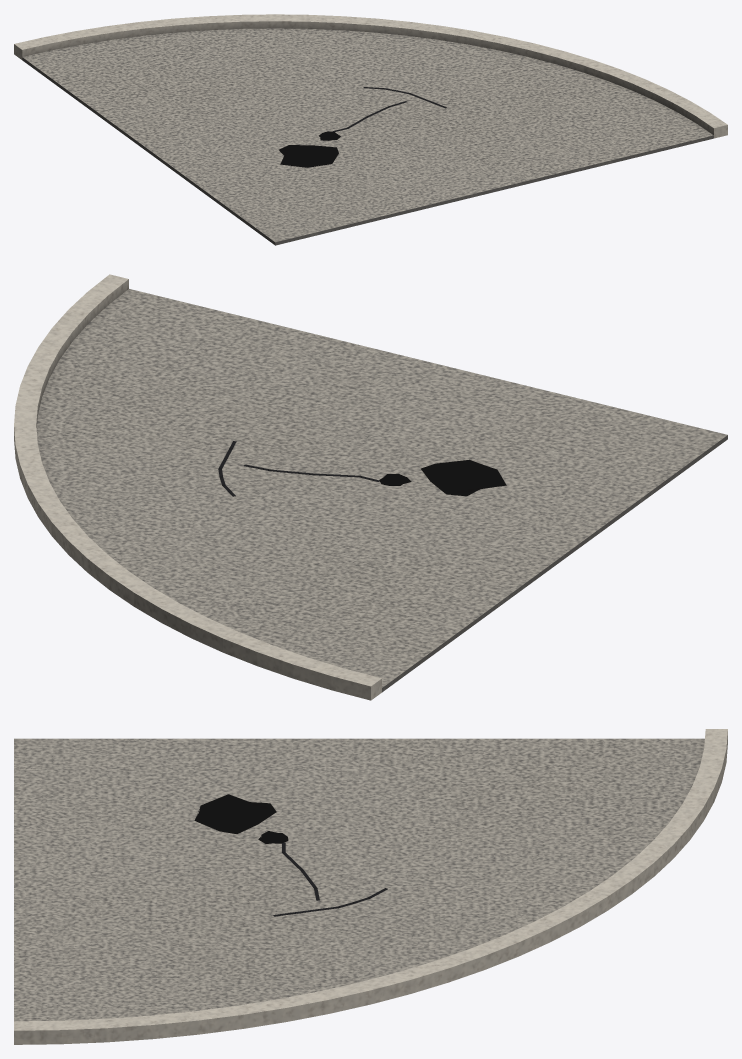
Rendered from culdesac_end.fbx.
3 views of the same model, one above another, from view 1: azimuth 30°, elevation 25°; view 2: azimuth 150°, elevation 25°; view 3: azimuth 270°, elevation 25° (orthographic). The views are drawn at different scales.
Visible parts, largest first — view 1: Body; view 2: Body; view 3: Body.
Boxes of the visible parts, x1,y1,x2,y2 form: Body: (14,14,727,245); Body: (14,274,727,700); Body: (14,729,727,1044).
Size of the model in its own units: 32 by 0.7 by 32.
1 material, 1 textured.
